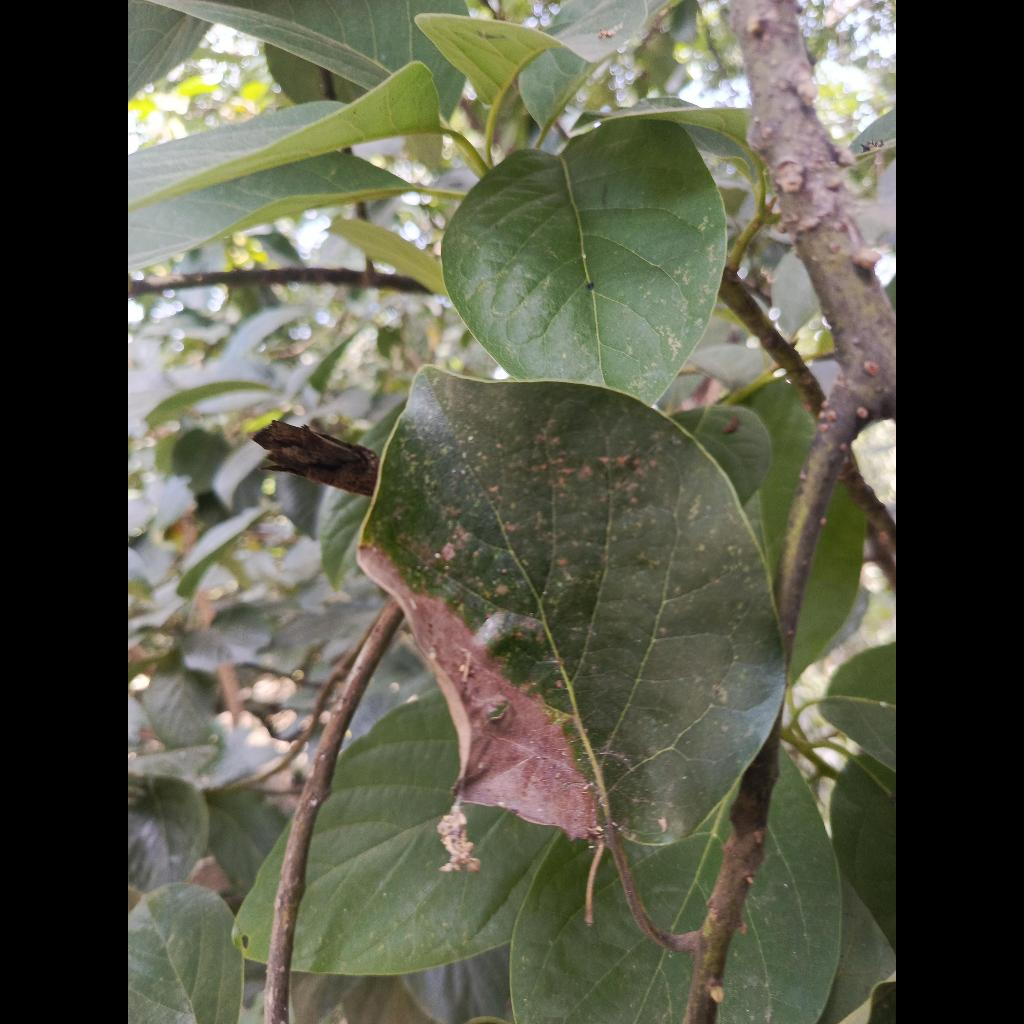Anthracnose: (358, 368, 783, 843)
